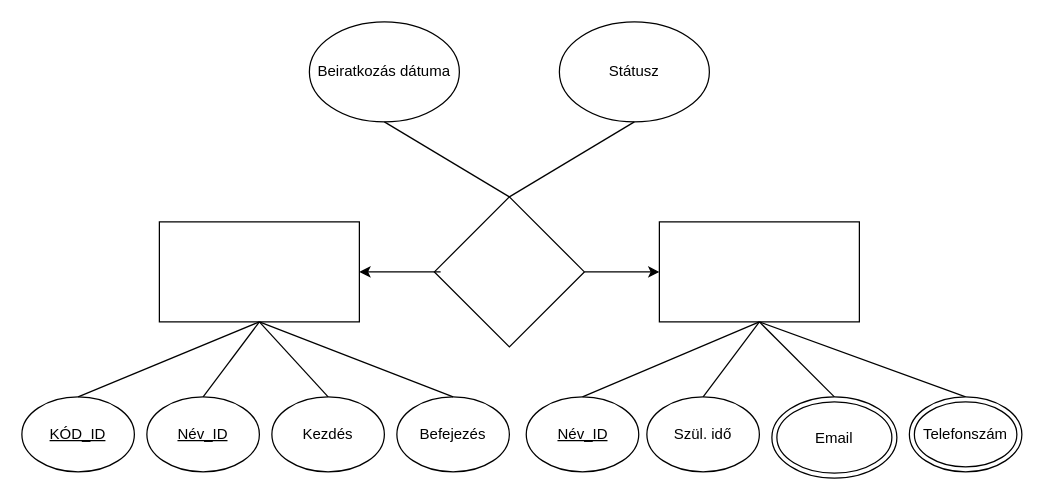
Some shapes in this 1044 by 500 pixel diagram are drawn without their labels. Each missing label, with the centre of its shape:
"Beiratkozás" goes at (x=508, y=271).
"Résztvevő" goes at (x=758, y=271).
"Tanfolyam" goes at (x=258, y=271).
